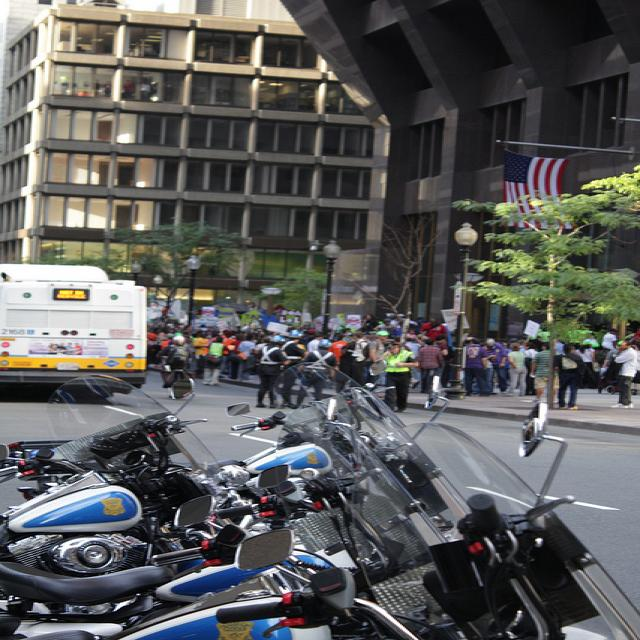motor: (158, 358, 538, 599), (128, 500, 605, 635), (6, 411, 256, 636)
